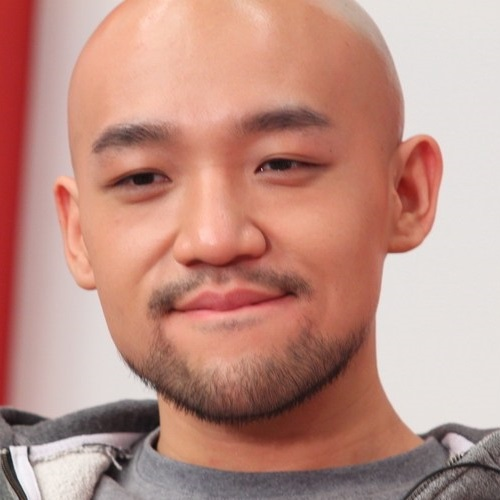unmask: (67, 55, 397, 418)
